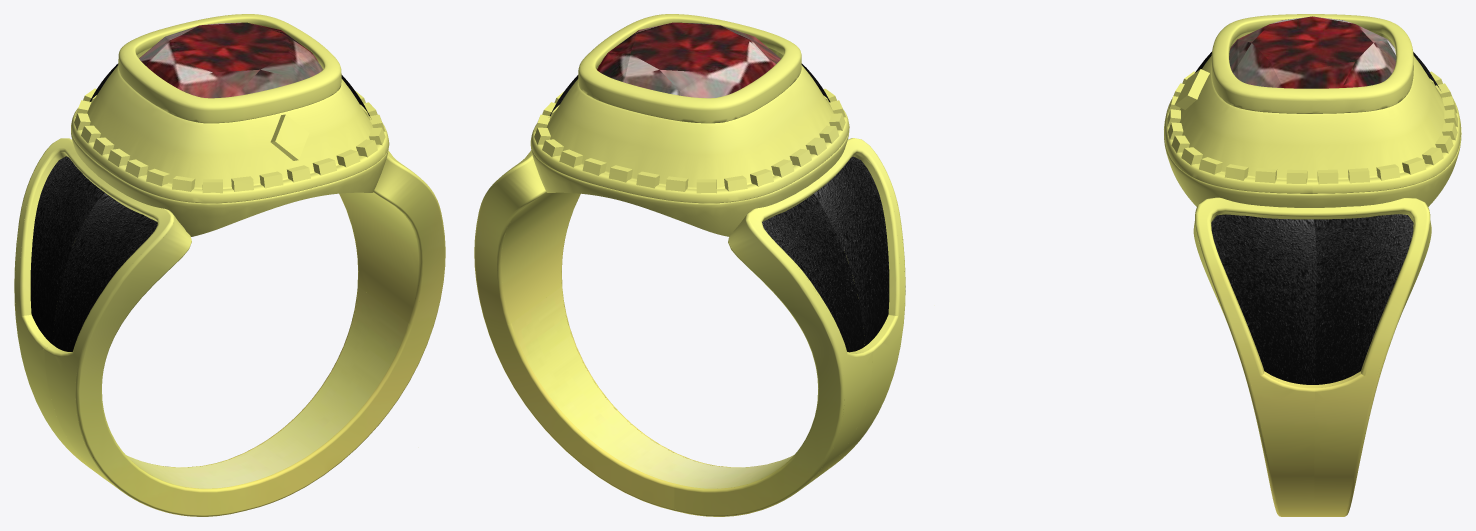
The model's file is ring61.glb.
3 renders of one model, left to right at view 1: azimuth 30°, elevation 25°; view 2: azimuth 150°, elevation 25°; view 3: azimuth 270°, elevation 25°, orthographic.
Visible parts, largest first — view 1: body, black, core; view 2: body, black, core; view 3: body, black, core.
Part boxes in pixels (x1,y1,x2,y2): body: (14, 14, 445, 516); black: (30, 63, 370, 351); core: (139, 22, 322, 98); body: (474, 14, 905, 516); black: (550, 63, 889, 352); core: (597, 22, 780, 98); body: (1164, 14, 1461, 516); black: (1195, 52, 1440, 384); core: (1229, 16, 1396, 88).
Bounding box in the file's own units: 22.66 × 26.6 × 27.97.
4 materials, 4 textured.
